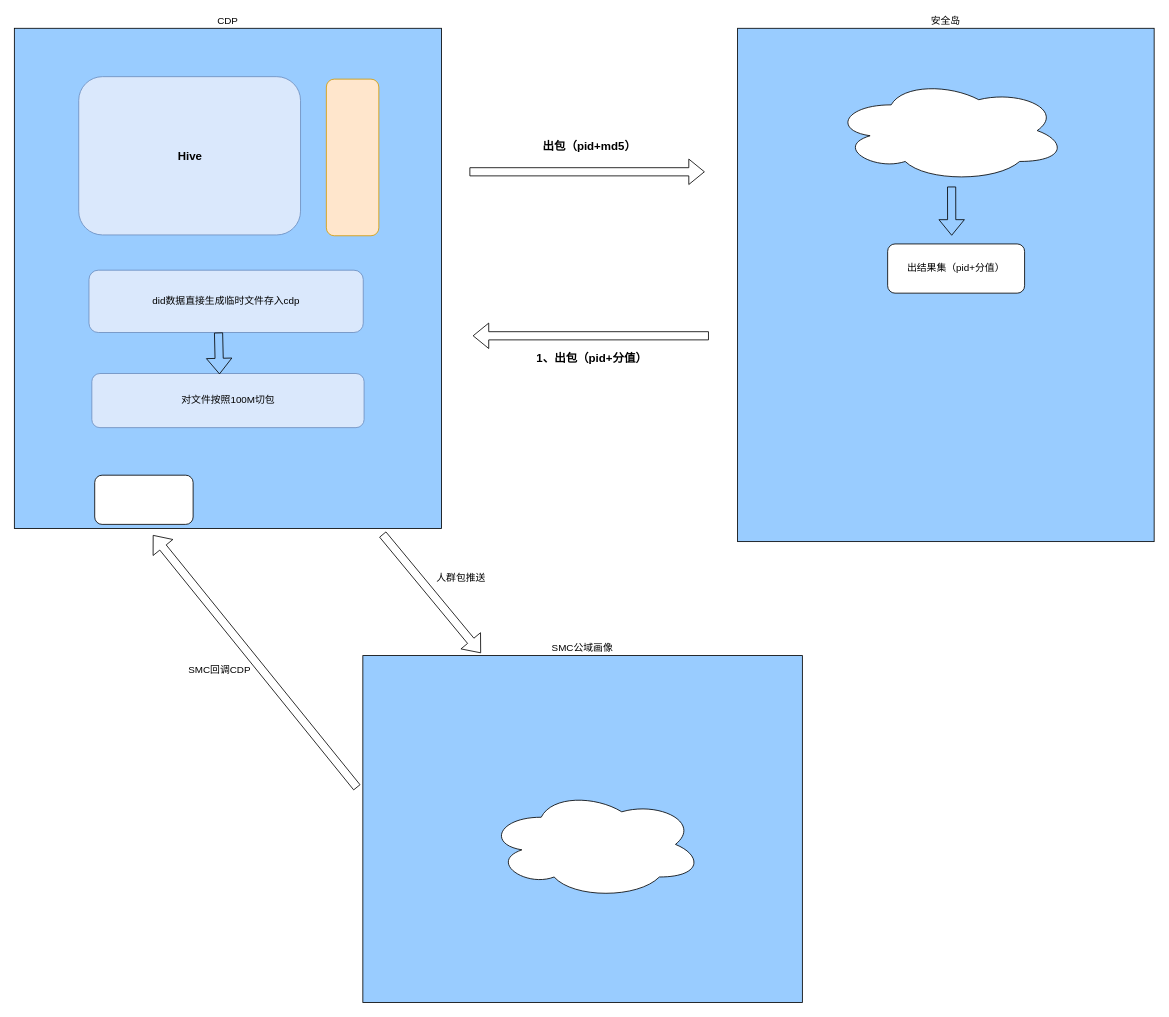
Some shapes in this 1169 by 1017 pixel diagram are drawn without their labels. Here are the shapes that lost their labels. From the top down, the centre of each, then its label:
pixel 949 130: 高潜模型训练，进行打分
pixel 352 157: spark 计算引擎
pixel 143 499: SMC画像构建完成之后，CDP可直接跳转值SMC
pixel 594 844: SMC进行人群构建以及画像渲染
